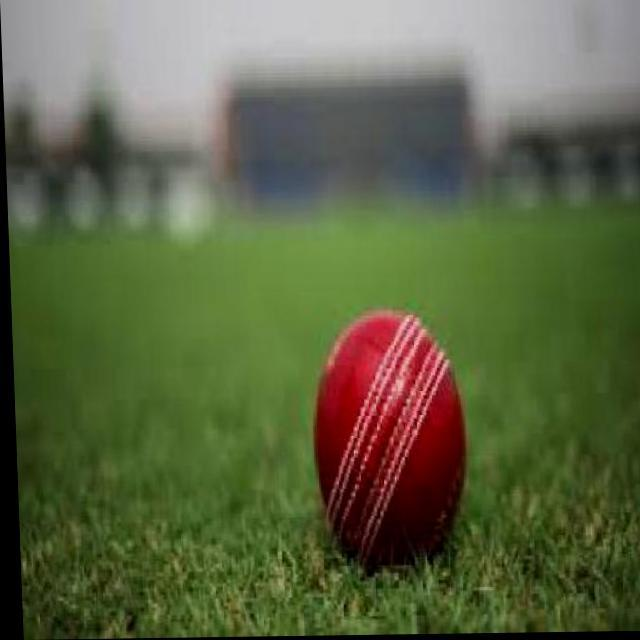-: (333, 289, 456, 582)
